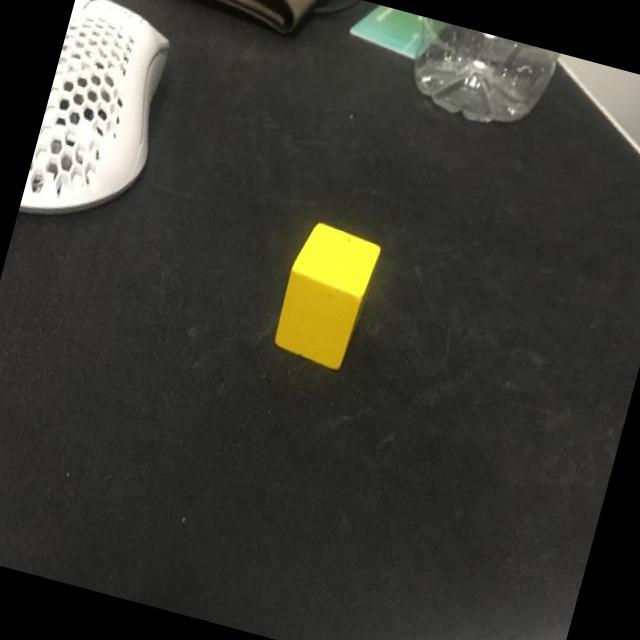yellow: (269, 218, 384, 374)
